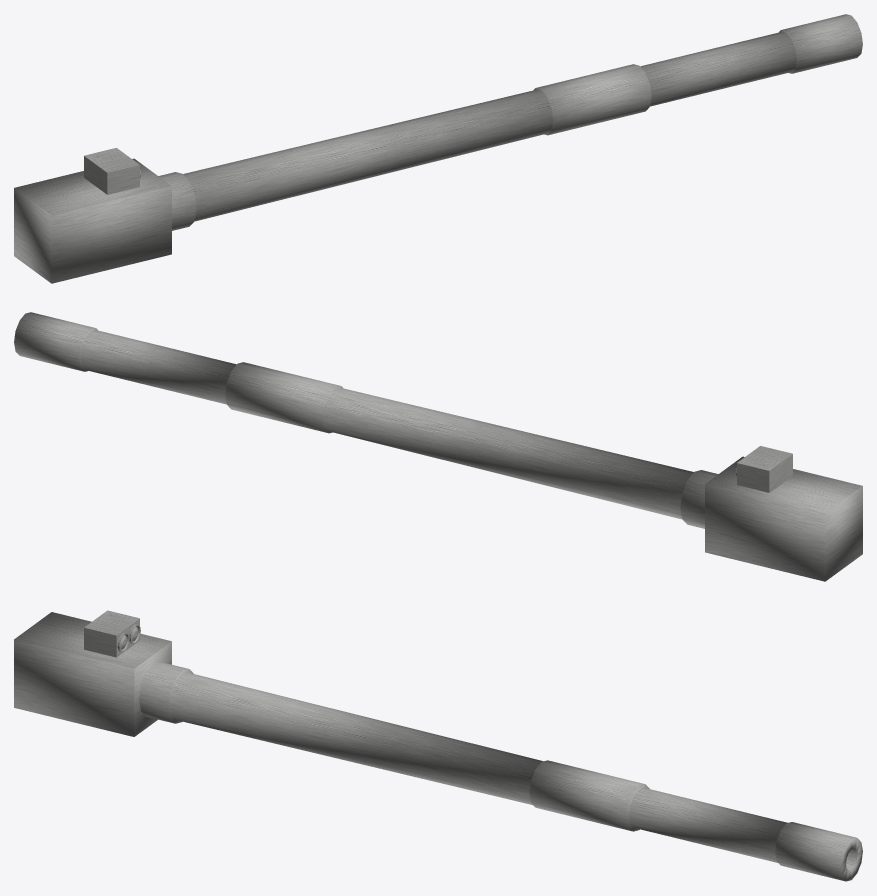
Rendered from T_302barrel.fbx.
3 renders of one model, top to bottom at view 1: azimuth 30°, elevation 25°; view 2: azimuth 150°, elevation 25°; view 3: azimuth 330°, elevation 25°, orthographic.
Parts seen in each view (by area): view 1: barrel, tavmero; view 2: barrel, tavmero; view 3: barrel, tavmero.
Boxes of the visible parts, x1=… form: barrel: x1=14, y1=14, x2=862, y2=283; tavmero: x1=84, y1=148, x2=140, y2=194; barrel: x1=14, y1=312, x2=862, y2=581; tavmero: x1=736, y1=446, x2=792, y2=492; barrel: x1=14, y1=612, x2=862, y2=881; tavmero: x1=84, y1=610, x2=140, y2=657.
Bounding box in the file's own units: 5.02 × 0.5288 × 0.4.
Materials: 1 (1 with a texture image).
